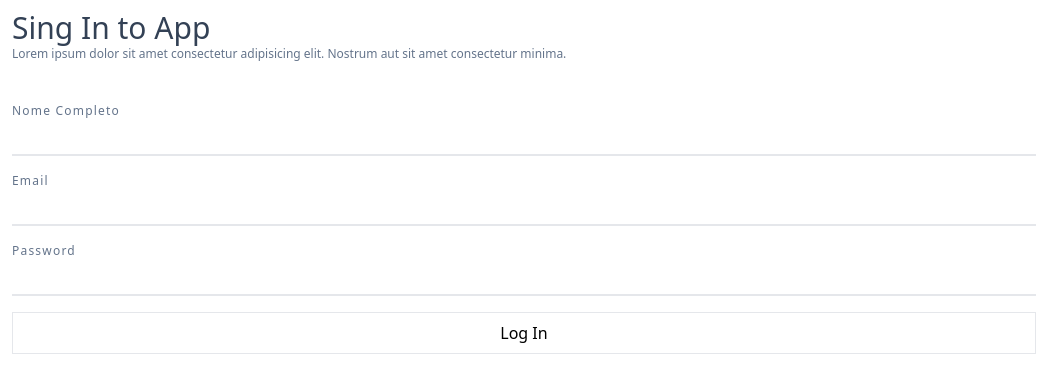
Register › should display matching error when email is invalid
Type "Doe Joe" into the field labelled "Nome Completo" at (524, 138), box [12,120,1036,156]
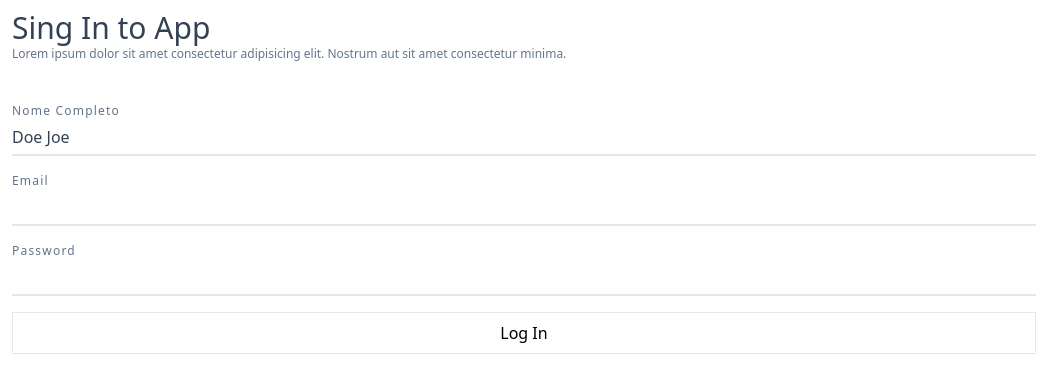
Type "test" into the field labelled "Email" at (524, 208), box [12,190,1036,226]
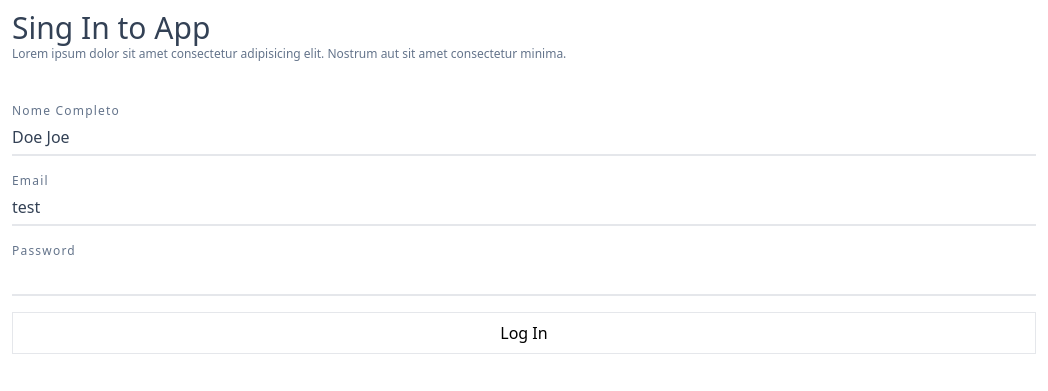
Type "password" into the password field labelled "Password" at (524, 278), box [12,260,1036,296]
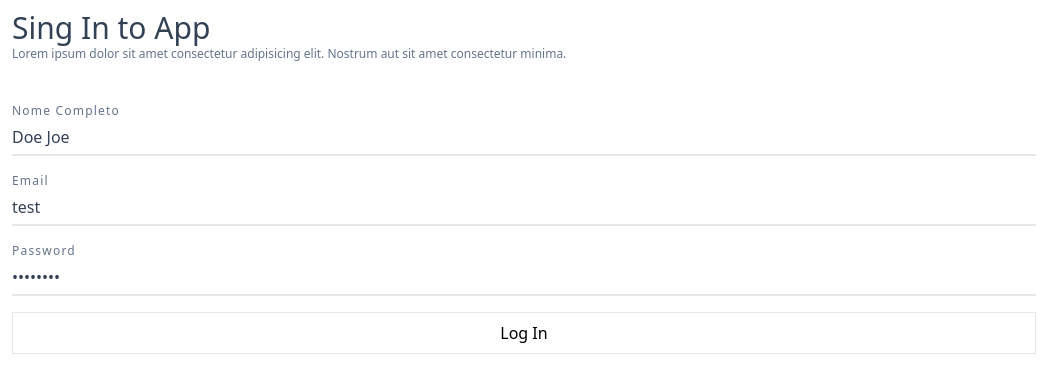
Submit the form from the button, box [12,312,1036,354]
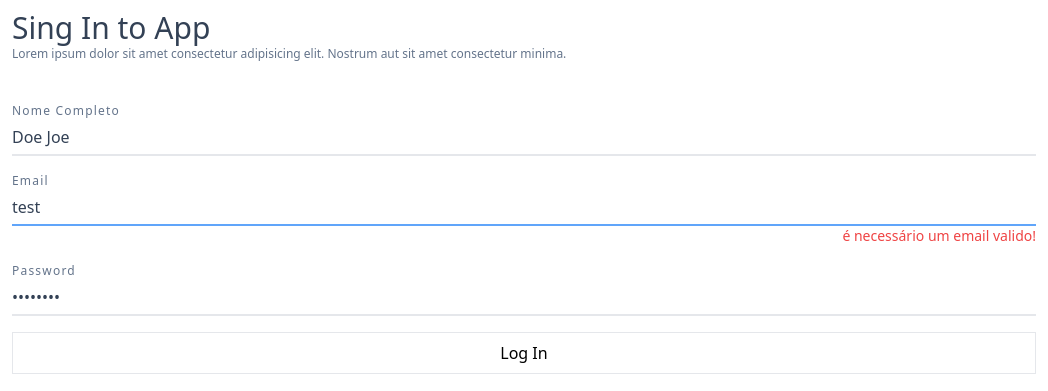
Check: the number of messages is 1, box [842,226,1036,245]
